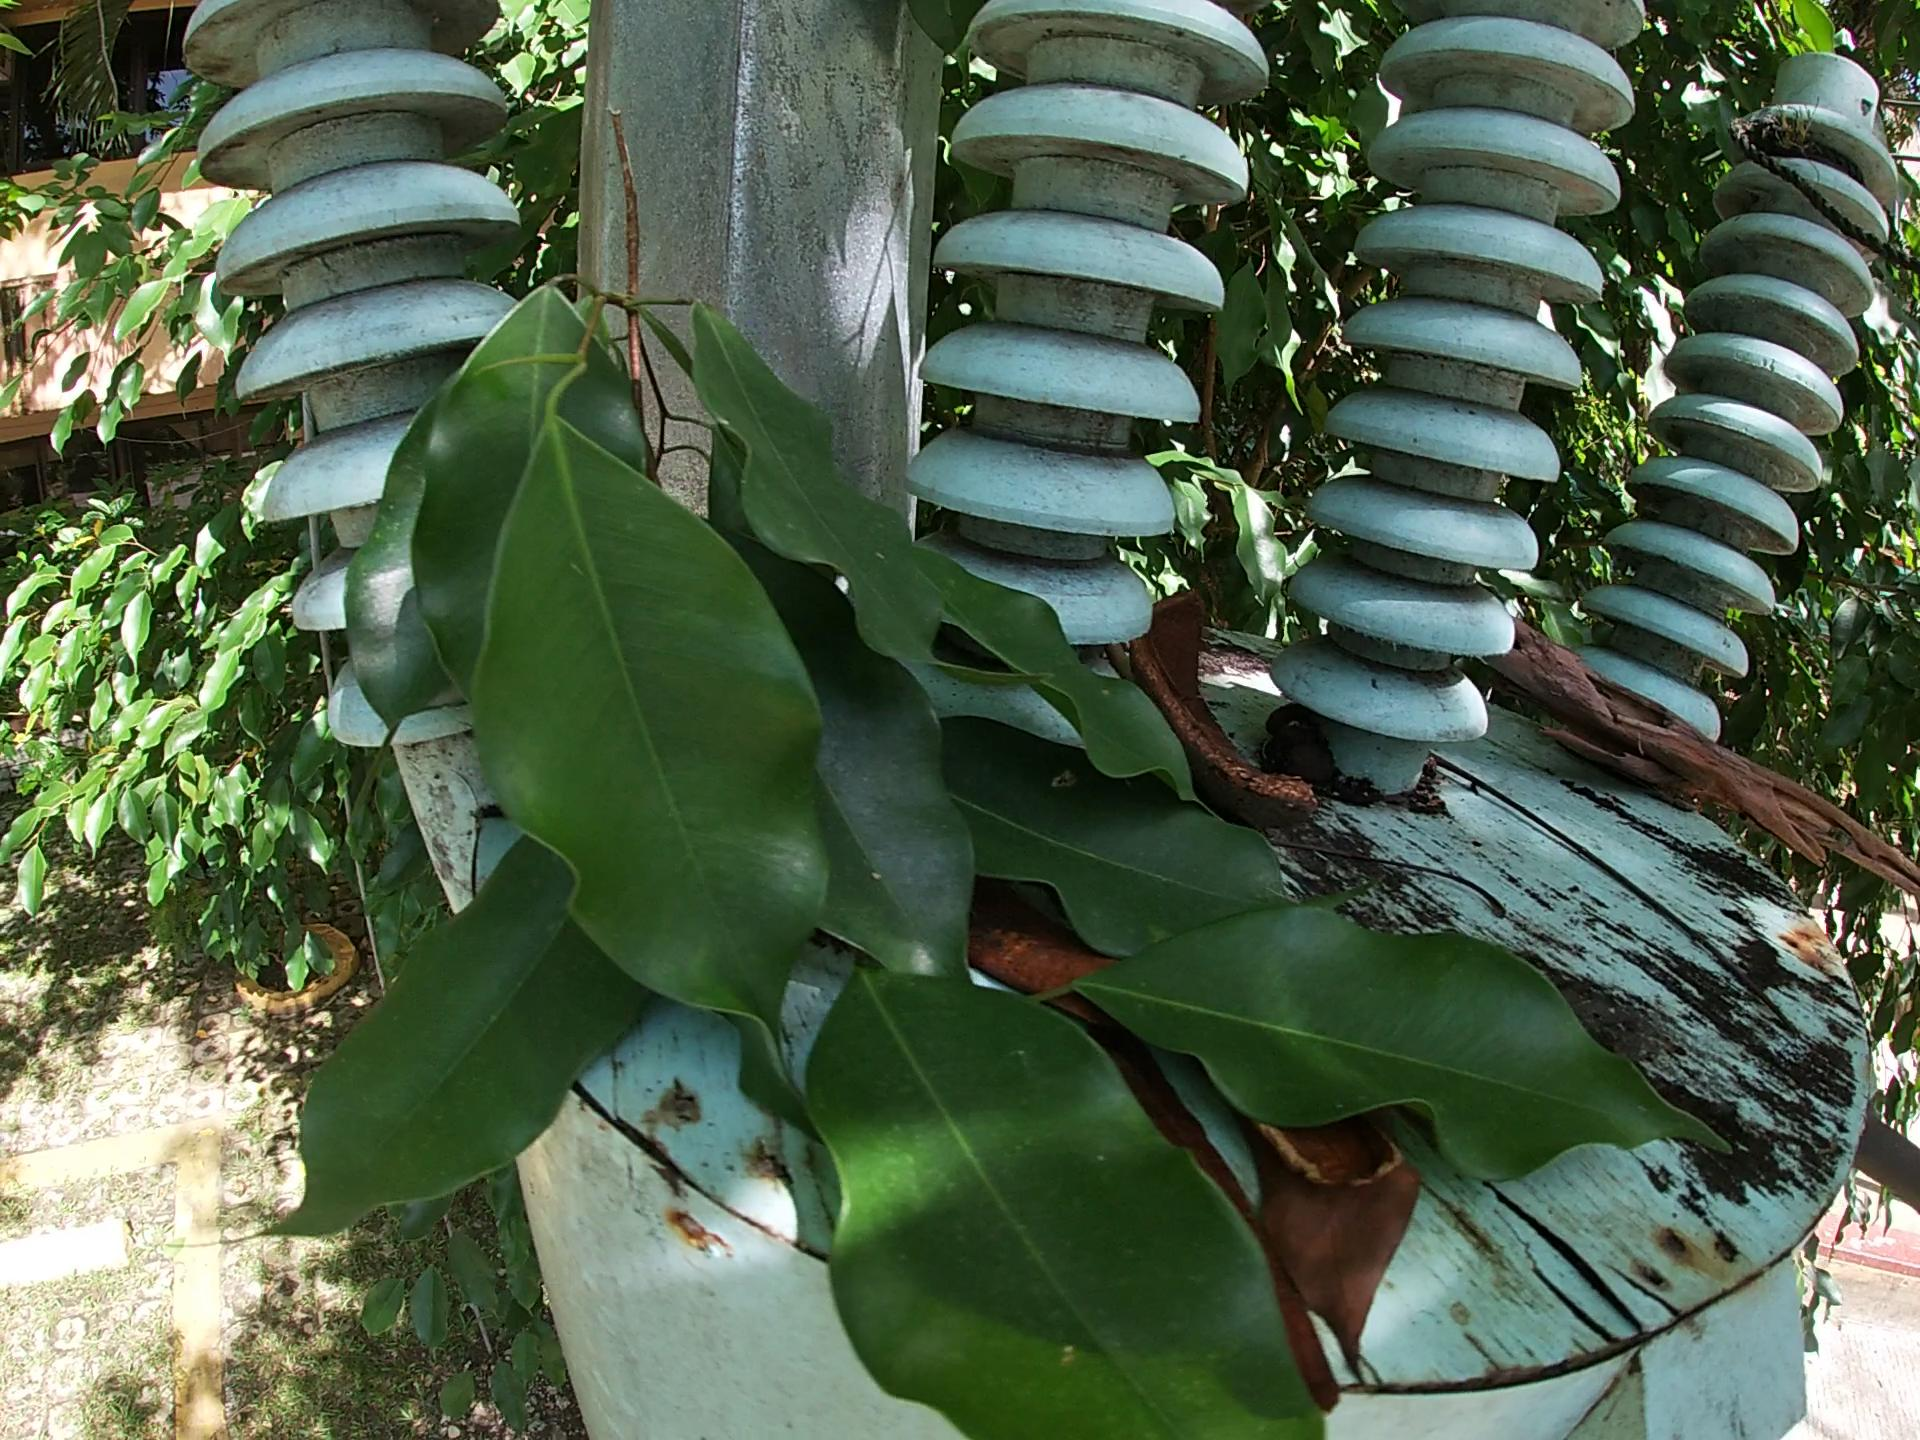branch with leaves: (259, 77, 1822, 1419)
leaf: (1258, 1106, 1411, 1392), (940, 888, 1132, 1013)
mahogany fruit: (1135, 576, 1317, 821)
tree branch: (1485, 611, 1912, 902), (1435, 746, 1813, 1035), (1317, 832, 1519, 936)
